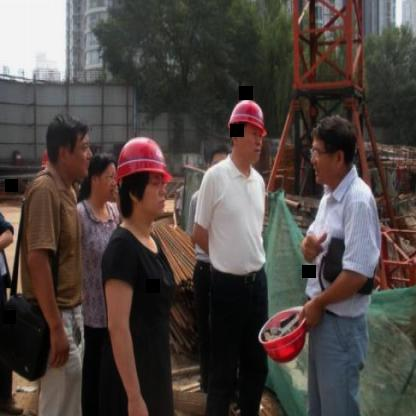head: (309, 116, 358, 188), (44, 111, 88, 185), (87, 150, 118, 210)
helmet: (113, 132, 172, 226), (225, 93, 268, 170)
